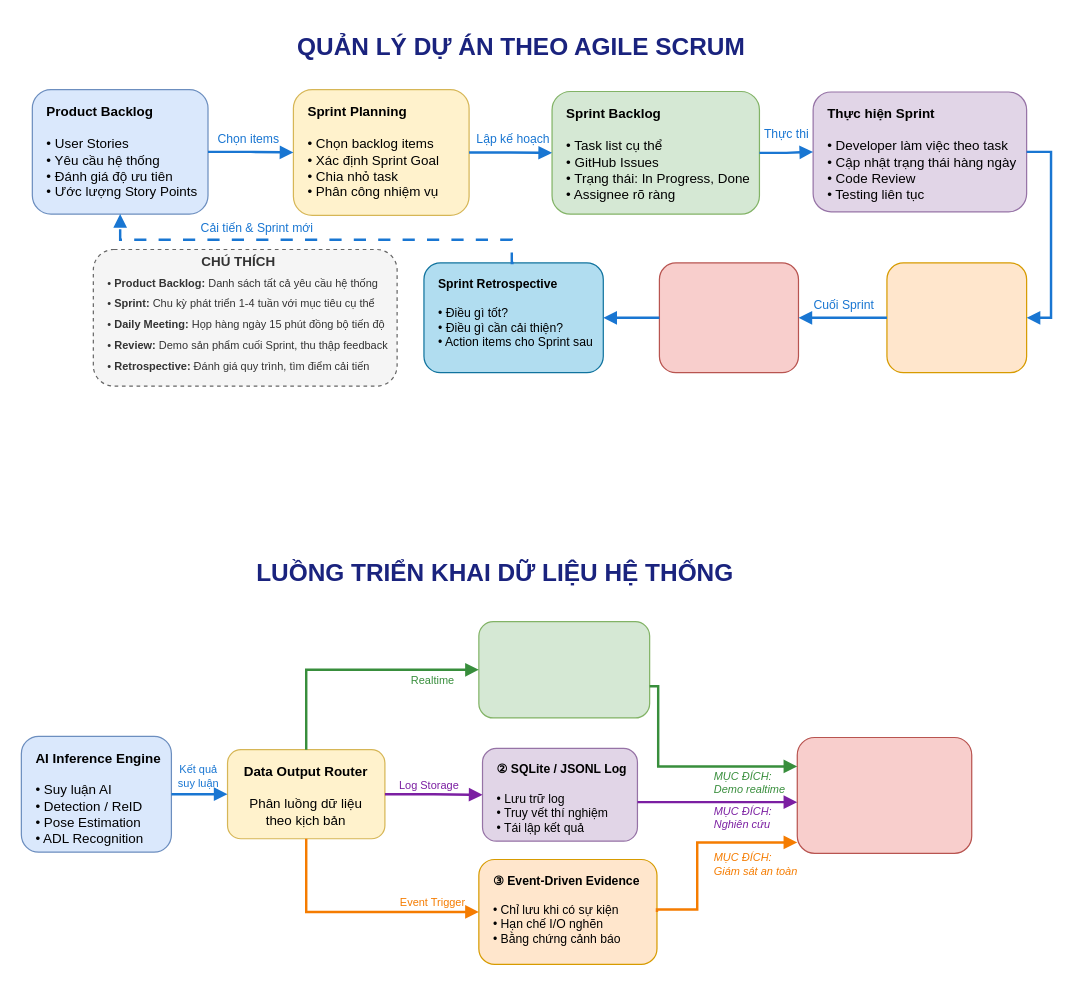
The diagram is 1083 pixels wide and 986 high, and some of its shapes have lost their labels. Here are the shapes that lost their labels. From the top down, the box of each, then its label:
(658, 262, 798, 373): Sprint Review • Demo sản phẩm • Thu thập feedback • Đánh giá hoàn thành
(886, 262, 1027, 373): Daily Meeting (15p) • Hôm qua làm gì? • Hôm nay làm gì? • Khó khăn nào?
(478, 620, 650, 718): ① REST API / WebSocket • Realtime push • Dashboard update • Low latency
(796, 736, 972, 853): Tầng Ứng Dụng • Dashboard / Analytics • Research Tools • Demo Interface
